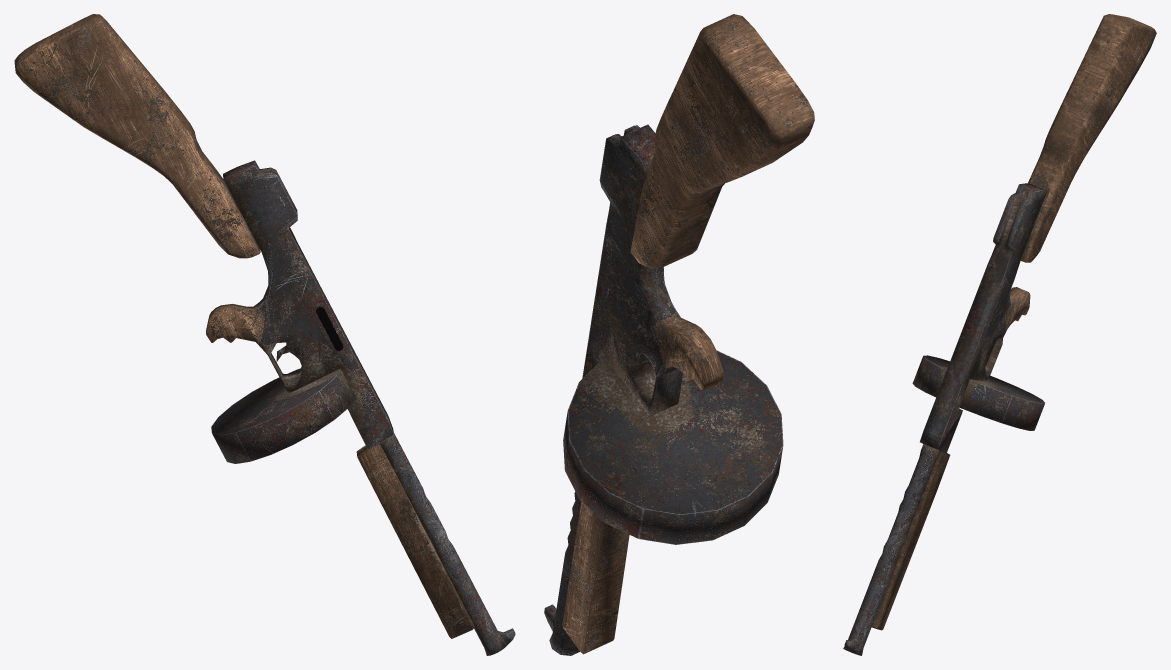
Rendered from Anim_disparar_ametralladora_objetos.0014.obj.
3 renders of one model, left to right at view 1: azimuth 30°, elevation 25°; view 2: azimuth 150°, elevation 25°; view 3: azimuth 270°, elevation 25°, orthographic. The views are drawn at different scales.
Parts seen in each view (by area): view 1: Ametralladora1; view 2: Ametralladora1; view 3: Ametralladora1.
Part boxes in pixels (box(x1,y1,x2,y2)): Ametralladora1: box(14, 14, 515, 655); Ametralladora1: box(544, 14, 814, 655); Ametralladora1: box(843, 14, 1156, 655).
Bounding box in the file's own units: 3.07 × 5.12 × 2.75.
